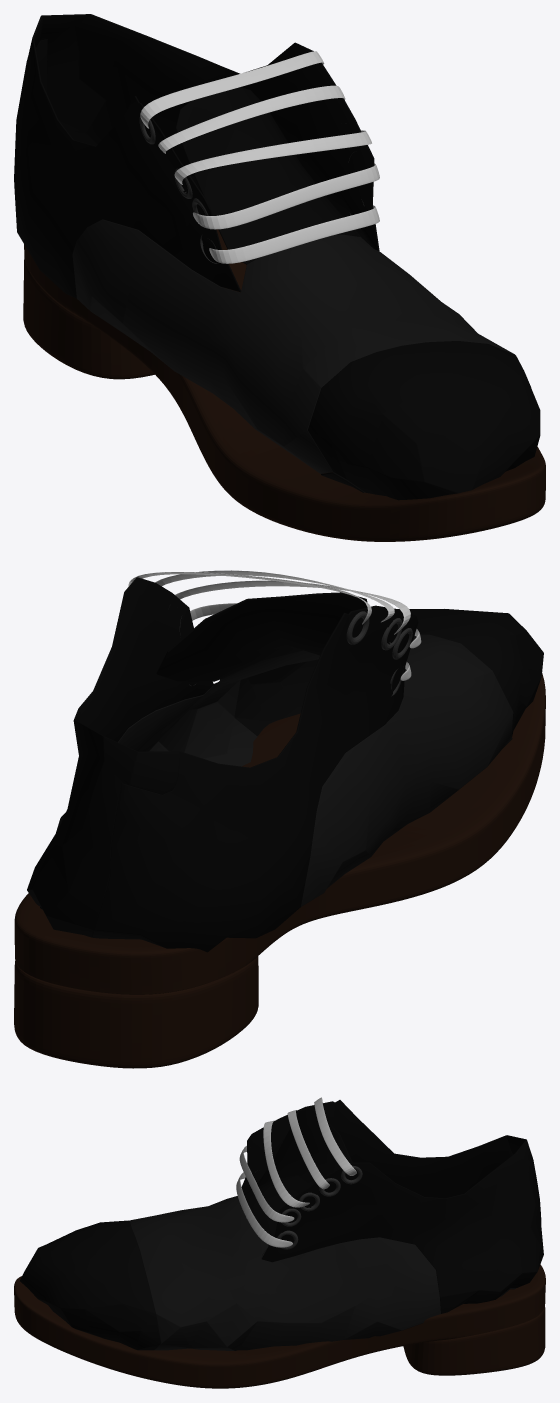
The picture shows the model from 3 angles, top to bottom: view 1: azimuth 30°, elevation 25°; view 2: azimuth 150°, elevation 25°; view 3: azimuth 270°, elevation 25°; orthographic projection. The views are drawn at different scales.
Parts seen in each view (by area): view 1: ZAPATO1_3, Plane, Plane.002, Plane.004, Plane.005, Plane.001, Plane.003; view 2: ZAPATO1_3, Plane, Plane.001, Plane.003, Plane.004; view 3: ZAPATO1_3, Plane, Plane.001, Plane.004, Plane.003, Plane.005, Plane.002.
Part boxes in pixels (<box>): ZAPATO1_3: <box>14,14,540,500</box>; Plane: <box>23,229,545,541</box>; Plane.002: <box>193,163,379,229</box>; Plane.004: <box>140,51,324,128</box>; Plane.005: <box>209,205,379,263</box>; Plane.001: <box>174,130,371,184</box>; Plane.003: <box>158,85,345,153</box>; ZAPATO1_3: <box>27,577,543,952</box>; Plane: <box>14,673,545,1068</box>; Plane.001: <box>175,580,410,634</box>; Plane.003: <box>155,570,394,622</box>; Plane.004: <box>128,572,371,624</box>; ZAPATO1_3: <box>20,1100,543,1350</box>; Plane: <box>14,1264,545,1388</box>; Plane.001: <box>263,1120,309,1207</box>; Plane.004: <box>314,1097,356,1175</box>; Plane.003: <box>287,1110,329,1189</box>; Plane.005: <box>236,1172,292,1247</box>; Plane.002: <box>239,1145,294,1222</box>.
Bounding box in the file's own units: 174 × 204 × 447.
